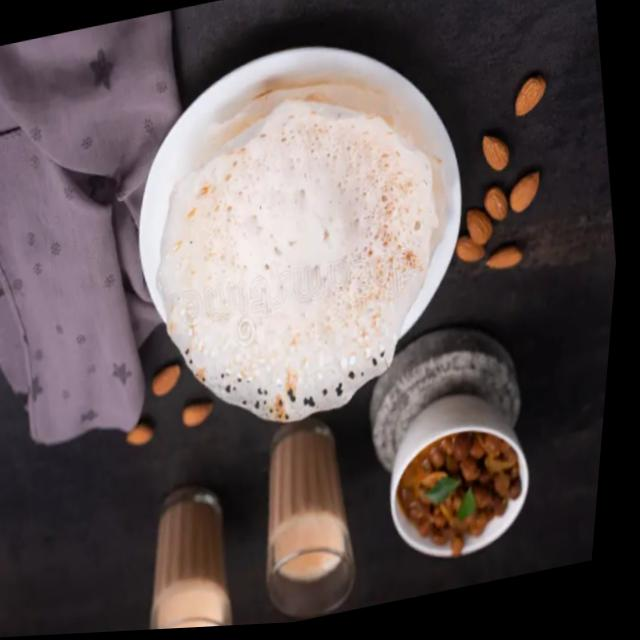IDIYAPPAM: (160, 102, 443, 421)
SUNDAL: (397, 430, 522, 556)
